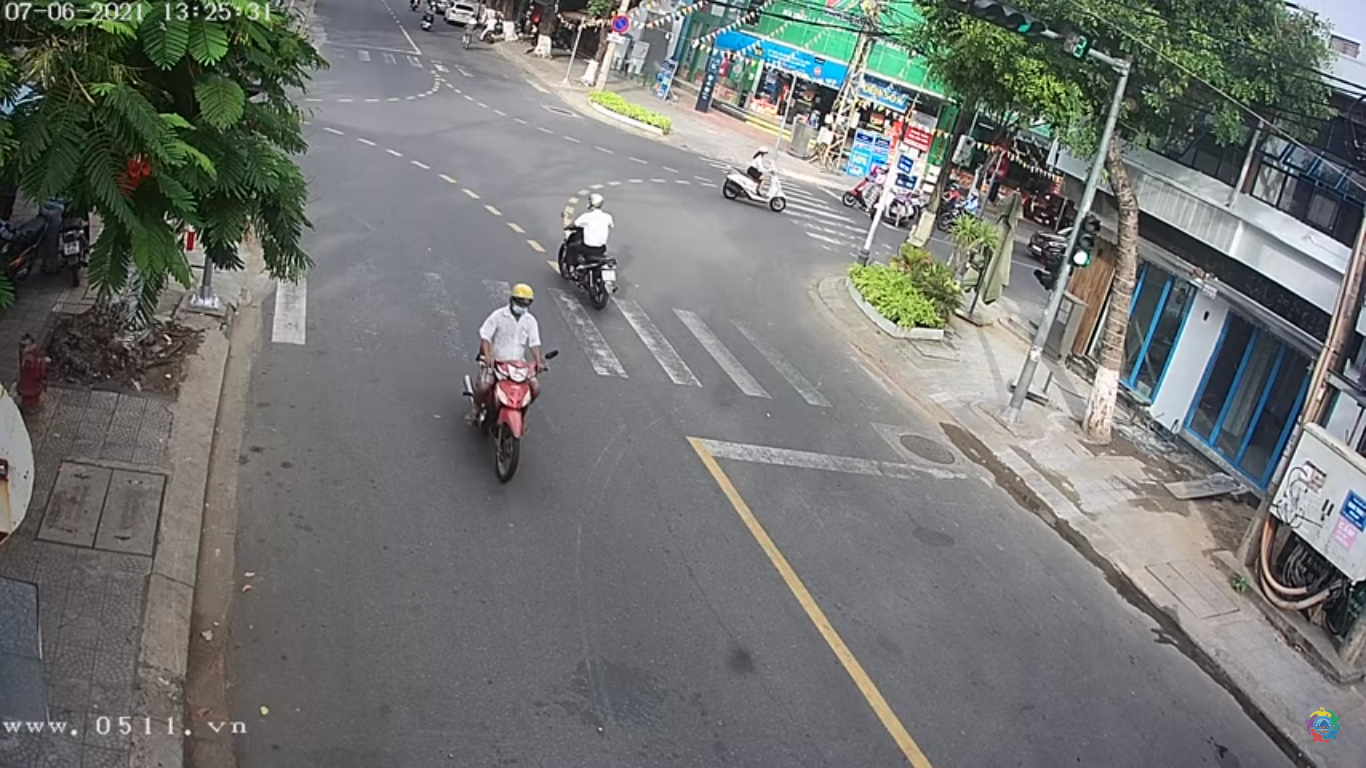motorbike: (466, 278, 557, 479)
